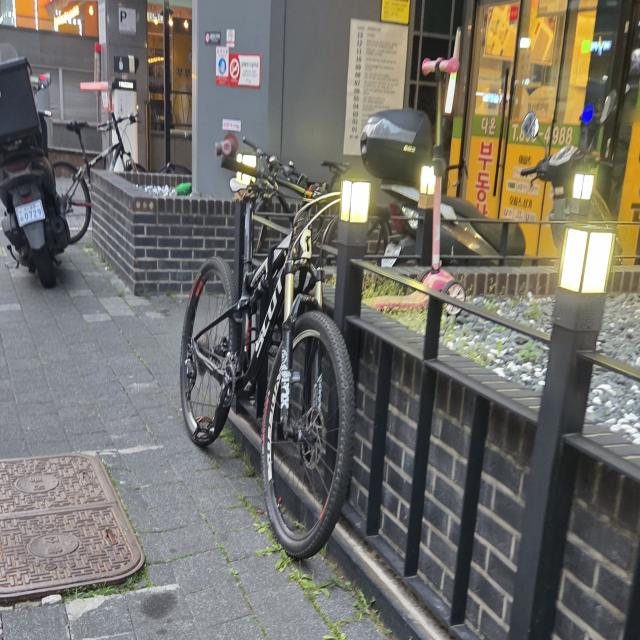bicycle: (162, 110, 371, 584)
